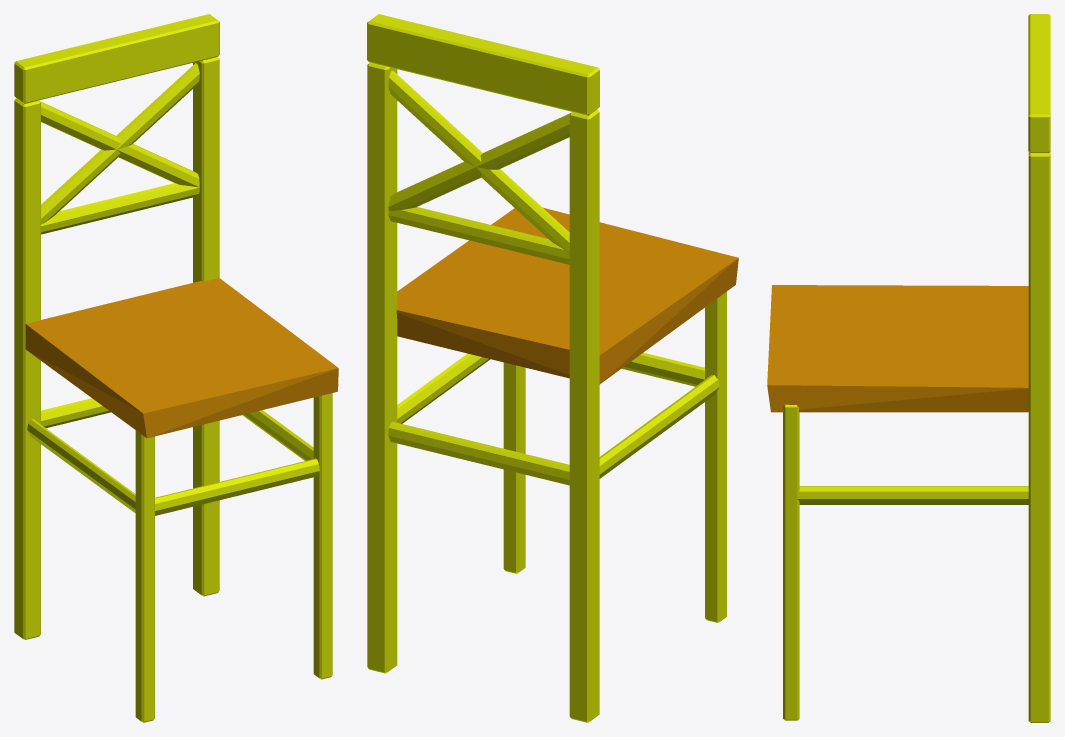
File: 4_chair.fbx
3 views of the same model, side by side, from view 1: azimuth 30°, elevation 25°; view 2: azimuth 150°, elevation 25°; view 3: azimuth 270°, elevation 25° (orthographic). The views are drawn at different scales.
Visible parts, largest first — view 1: 4chair.002; view 2: 4chair.002; view 3: 4chair.002.
Part boxes in pixels (x1=…): 4chair.002: x1=14, y1=14, x2=338, y2=722; 4chair.002: x1=367, y1=14, x2=738, y2=722; 4chair.002: x1=767, y1=14, x2=1050, y2=722.
Bounding box in the file's own units: 22.4 × 61.88 × 26.13.
